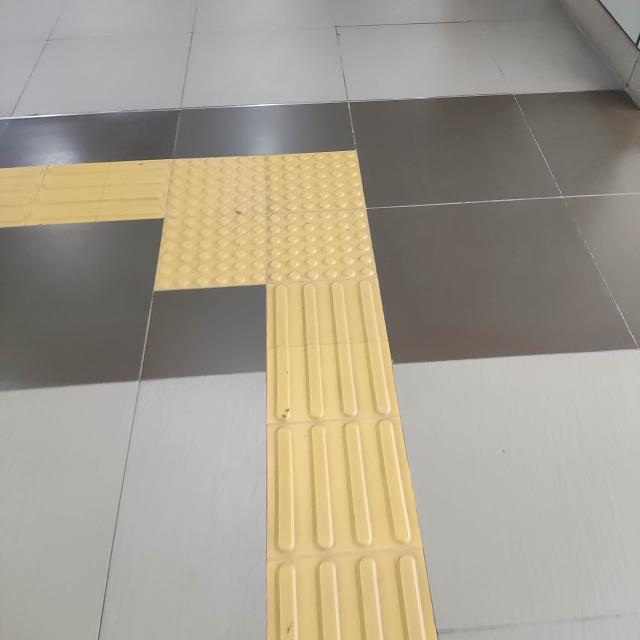kiri: (6, 104, 447, 346)
